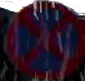No waiting: (7, 0, 81, 80)
